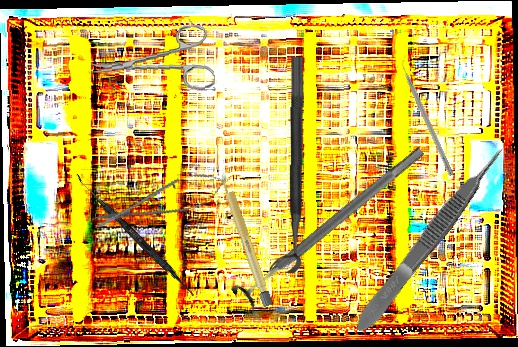Chopper: (396, 53, 461, 177)
Fixation Ring: (229, 136, 434, 317), (268, 56, 306, 273)
Iris Scissors: (88, 23, 216, 99)
Micro Scissor: (88, 164, 231, 240)
Scalpel Handle: (218, 171, 274, 308)
Spatula Surgical: (71, 173, 199, 298)
Tissue Forceps: (348, 142, 513, 337)
